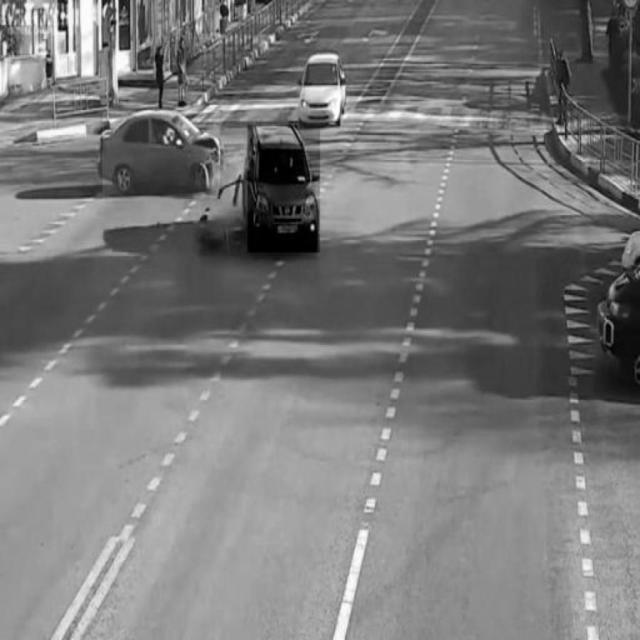vehicle: (103, 112, 221, 198), (248, 125, 320, 253), (298, 53, 348, 130)
